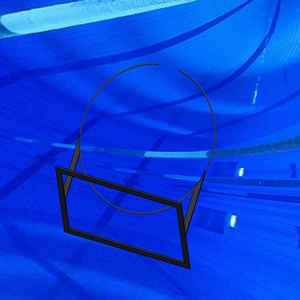circle: (55, 61, 218, 269)
